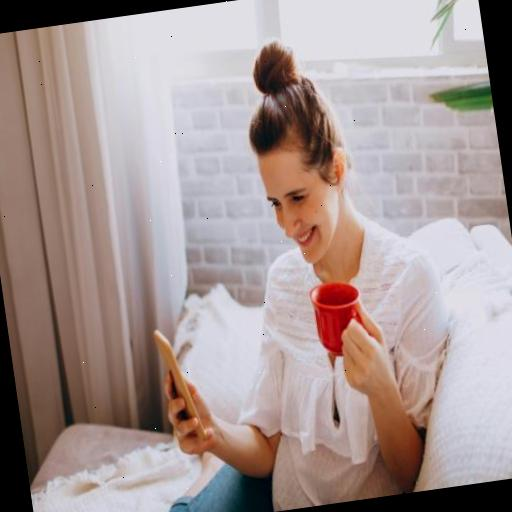cup: (308, 278, 370, 360)
phone: (153, 324, 206, 446)
